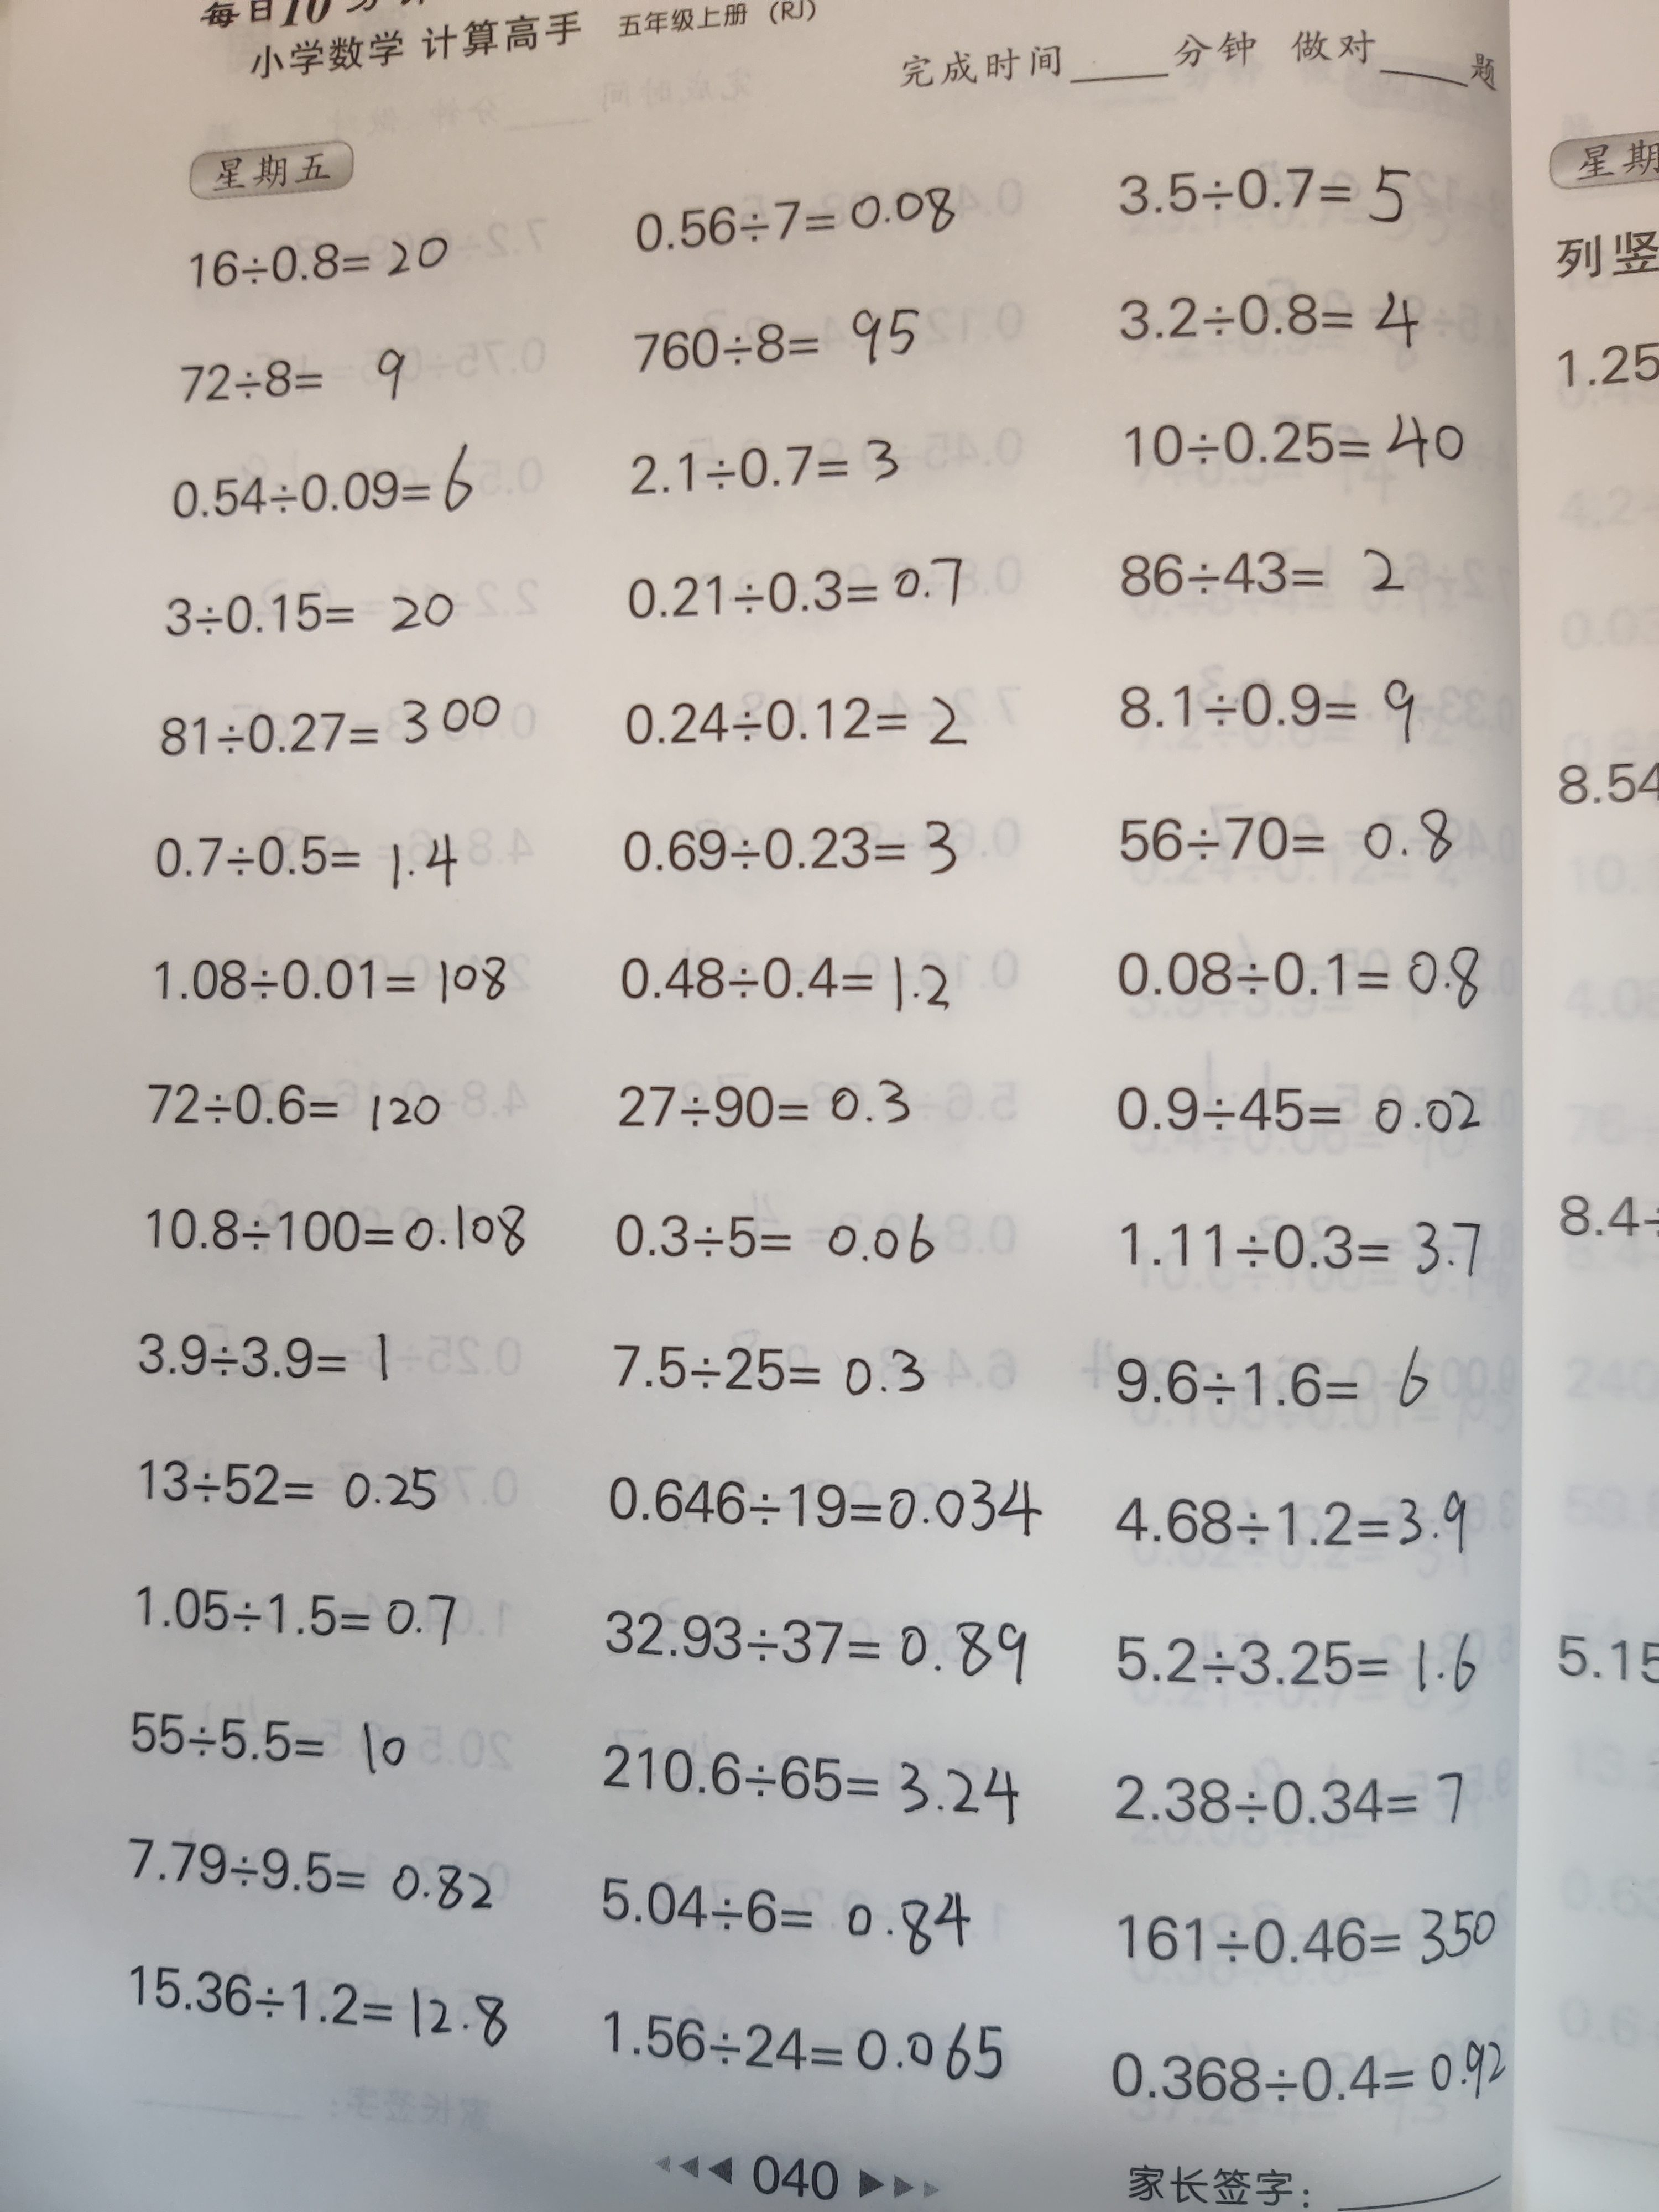equation: (585, 1589, 1045, 1702), (1097, 1594, 1504, 1719), (590, 1729, 1037, 1839), (597, 1984, 1035, 2094), (117, 1950, 515, 2065), (133, 1178, 540, 1284), (590, 1457, 1052, 1551), (1097, 928, 1492, 1029), (1093, 394, 1477, 495), (599, 1188, 963, 1293), (112, 1695, 434, 1813), (578, 1863, 979, 1957), (1107, 1474, 1487, 1572), (607, 678, 982, 774), (1090, 2036, 1516, 2121), (1109, 1060, 1492, 1154), (1109, 1327, 1455, 1431), (1102, 1209, 1501, 1298), (1107, 1887, 1504, 1976), (1105, 1748, 1477, 1841), (117, 1830, 508, 1918), (133, 683, 520, 769), (135, 1053, 456, 1156), (602, 1046, 929, 1147), (609, 808, 968, 899), (597, 541, 972, 628), (1102, 796, 1468, 885), (135, 933, 518, 1017), (595, 1322, 934, 1416), (131, 805, 467, 899), (1093, 274, 1439, 366), (599, 940, 965, 1026), (117, 1575, 479, 1661), (121, 1436, 446, 1531), (619, 293, 939, 389), (1097, 534, 1425, 628), (162, 437, 497, 526), (1100, 159, 1444, 245), (1107, 664, 1429, 755), (138, 570, 474, 654), (614, 425, 910, 519), (179, 207, 467, 296), (119, 1315, 403, 1395), (626, 187, 975, 252), (169, 327, 419, 411)
